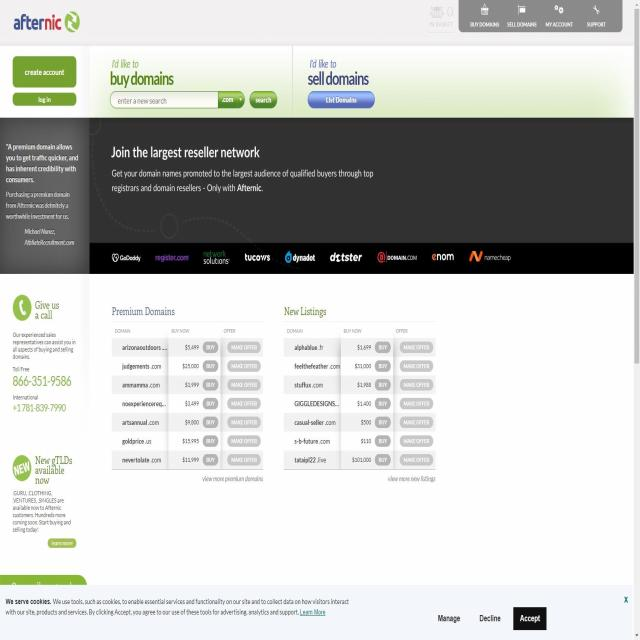button: (13, 56, 77, 88), (308, 91, 374, 109), (13, 92, 76, 106), (514, 607, 546, 632), (250, 92, 277, 110)
input: (110, 90, 218, 108)
select: (219, 90, 245, 108)
